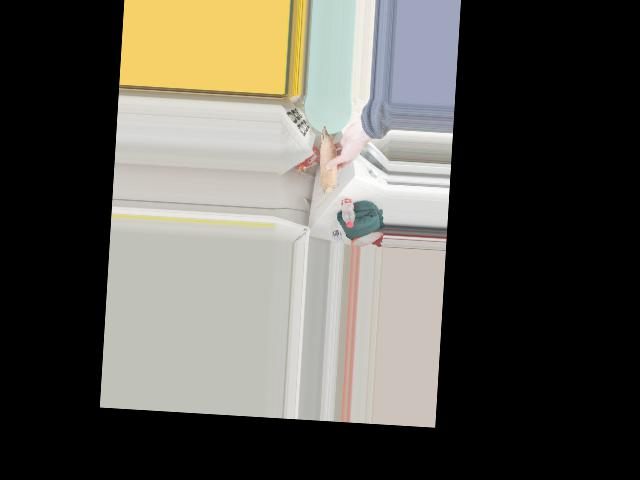sweet_potato: (316, 124, 344, 197)
